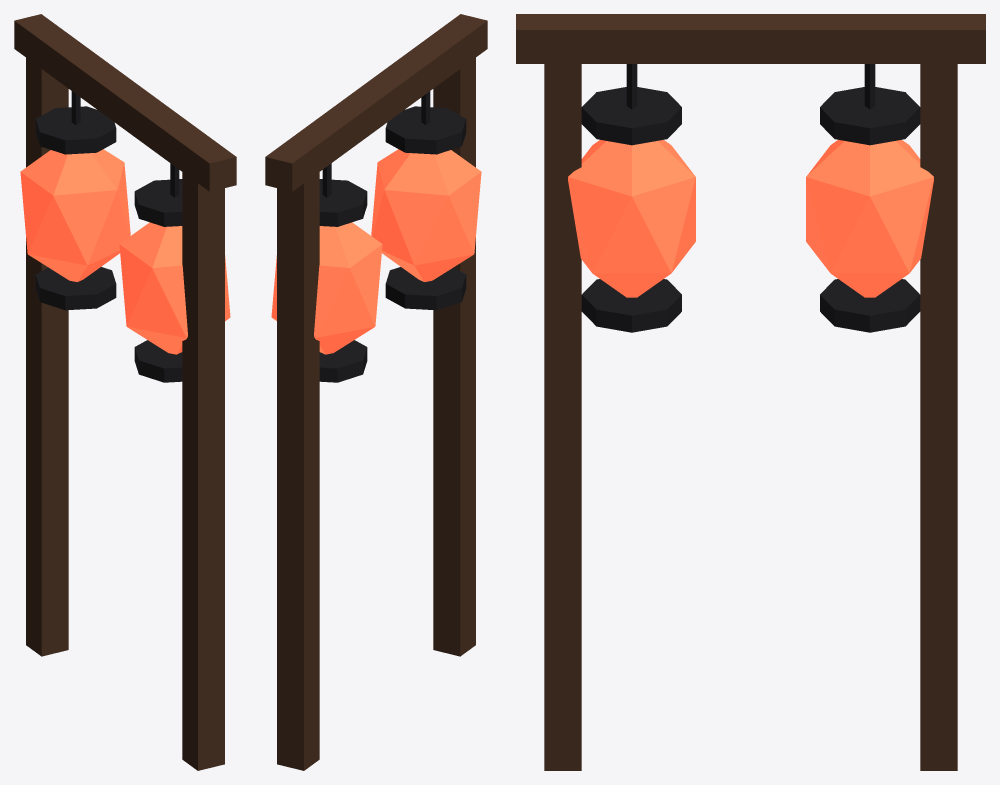
The model's file is lykta_par.glb.
3 views of the same model, side by side, from view 1: azimuth 30°, elevation 25°; view 2: azimuth 150°, elevation 25°; view 3: azimuth 270°, elevation 25° (orthographic). The views are drawn at different scales.
Parts seen in each view (by area): view 1: lykta_par; view 2: lykta_par; view 3: lykta_par.
Boxes of the visible parts, x1=… form: lykta_par: x1=14, y1=14, x2=236, y2=770; lykta_par: x1=265, y1=14, x2=487, y2=770; lykta_par: x1=516, y1=14, x2=985, y2=770.
Bounding box in the file's own units: 0.4293 × 2.61 × 1.5.
